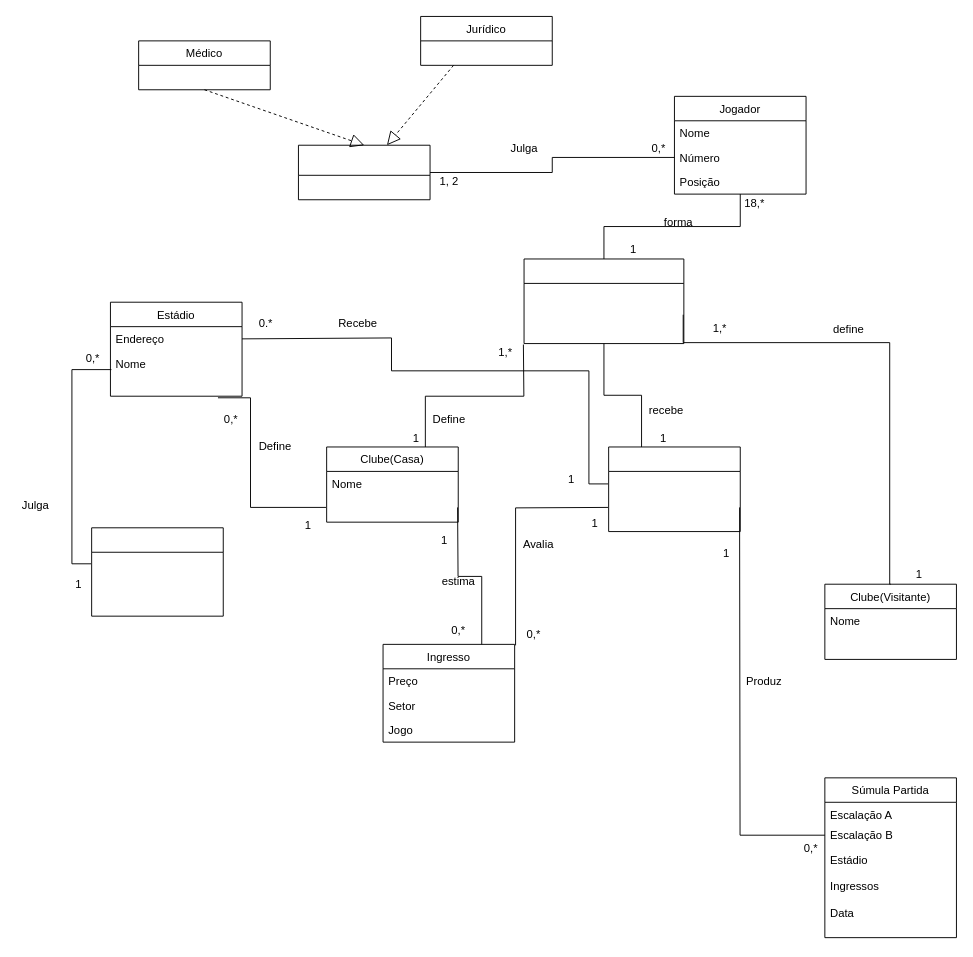
Some shapes in this 973 by 957 pixel diagram are drawn without their labels. Each missing label, with the centre of its shape:
"Departamento" goes at (x=364, y=172).
"Elenco" goes at (x=603, y=301).
"Federação" goes at (x=674, y=489).
"Polícia" goes at (x=157, y=571).
